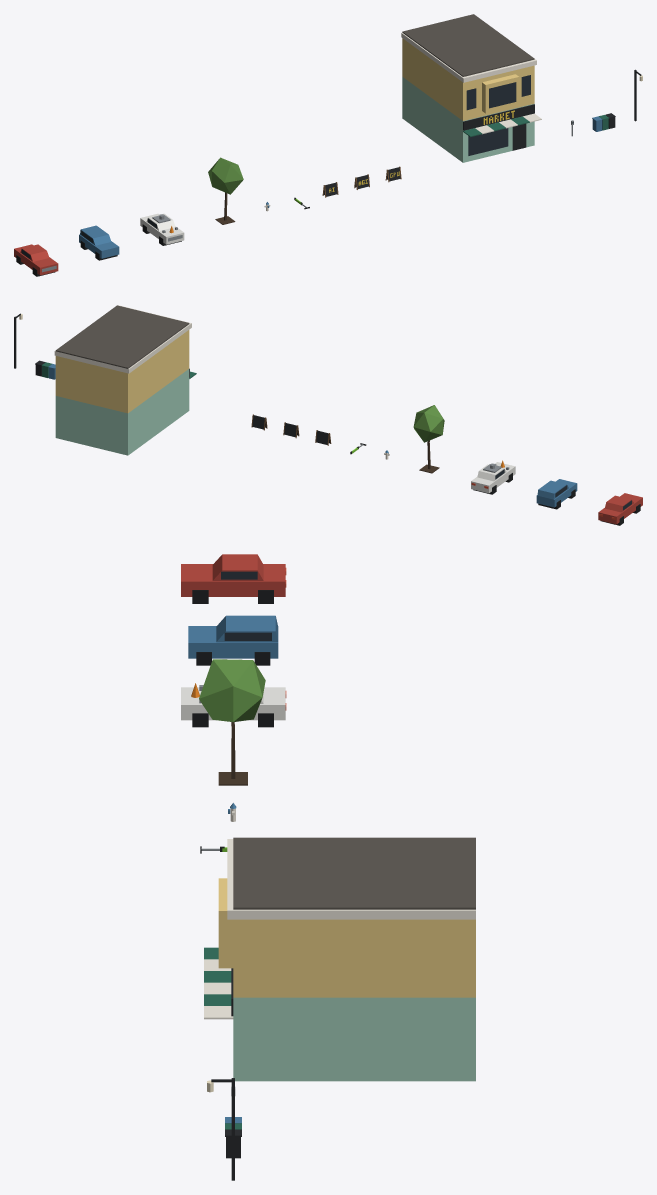
File: sf-roadside.glb
The picture shows the model from 3 angles, top to bottom: view 1: azimuth 30°, elevation 25°; view 2: azimuth 150°, elevation 25°; view 3: azimuth 270°, elevation 25°; orthographic projection. The views are drawn at different scales.
Parts seen in each view (by area): view 1: sf_store_body, sf_tree_body, sf_sedan_body, sf_hatch_body, sf_robotaxi_body; view 2: sf_store_body, sf_tree_body, sf_robotaxi_body, sf_sedan_body, sf_hatch_body, sf_bins_body; view 3: sf_store_body, sf_sedan_body, sf_tree_body, sf_hatch_body, sf_robotaxi_body.
Boxes of the visible parts, left/top/right/bottom form: sf_store_body: left=401, top=14, right=541, bottom=162; sf_tree_body: left=208, top=157, right=243, bottom=224; sf_sedan_body: left=14, top=244, right=58, bottom=276; sf_hatch_body: left=79, top=225, right=119, bottom=260; sf_robotaxi_body: left=140, top=213, right=184, bottom=245; sf_store_body: left=54, top=305, right=196, bottom=455; sf_tree_body: left=413, top=405, right=444, bottom=473; sf_robotaxi_body: left=471, top=460, right=515, bottom=494; sf_sedan_body: left=598, top=493, right=642, bottom=525; sf_hatch_body: left=536, top=479, right=577, bottom=509; sf_bins_body: left=35, top=360, right=55, bottom=379; sf_store_body: left=204, top=837, right=475, bottom=1081; sf_sedan_body: left=181, top=554, right=286, bottom=603; sf_tree_body: left=199, top=659, right=265, bottom=785; sf_hatch_body: left=188, top=615, right=278, bottom=665; sf_robotaxi_body: left=181, top=683, right=286, bottom=727.
Bounding box in the file's own units: 58.06 × 7.9 × 12.16.
